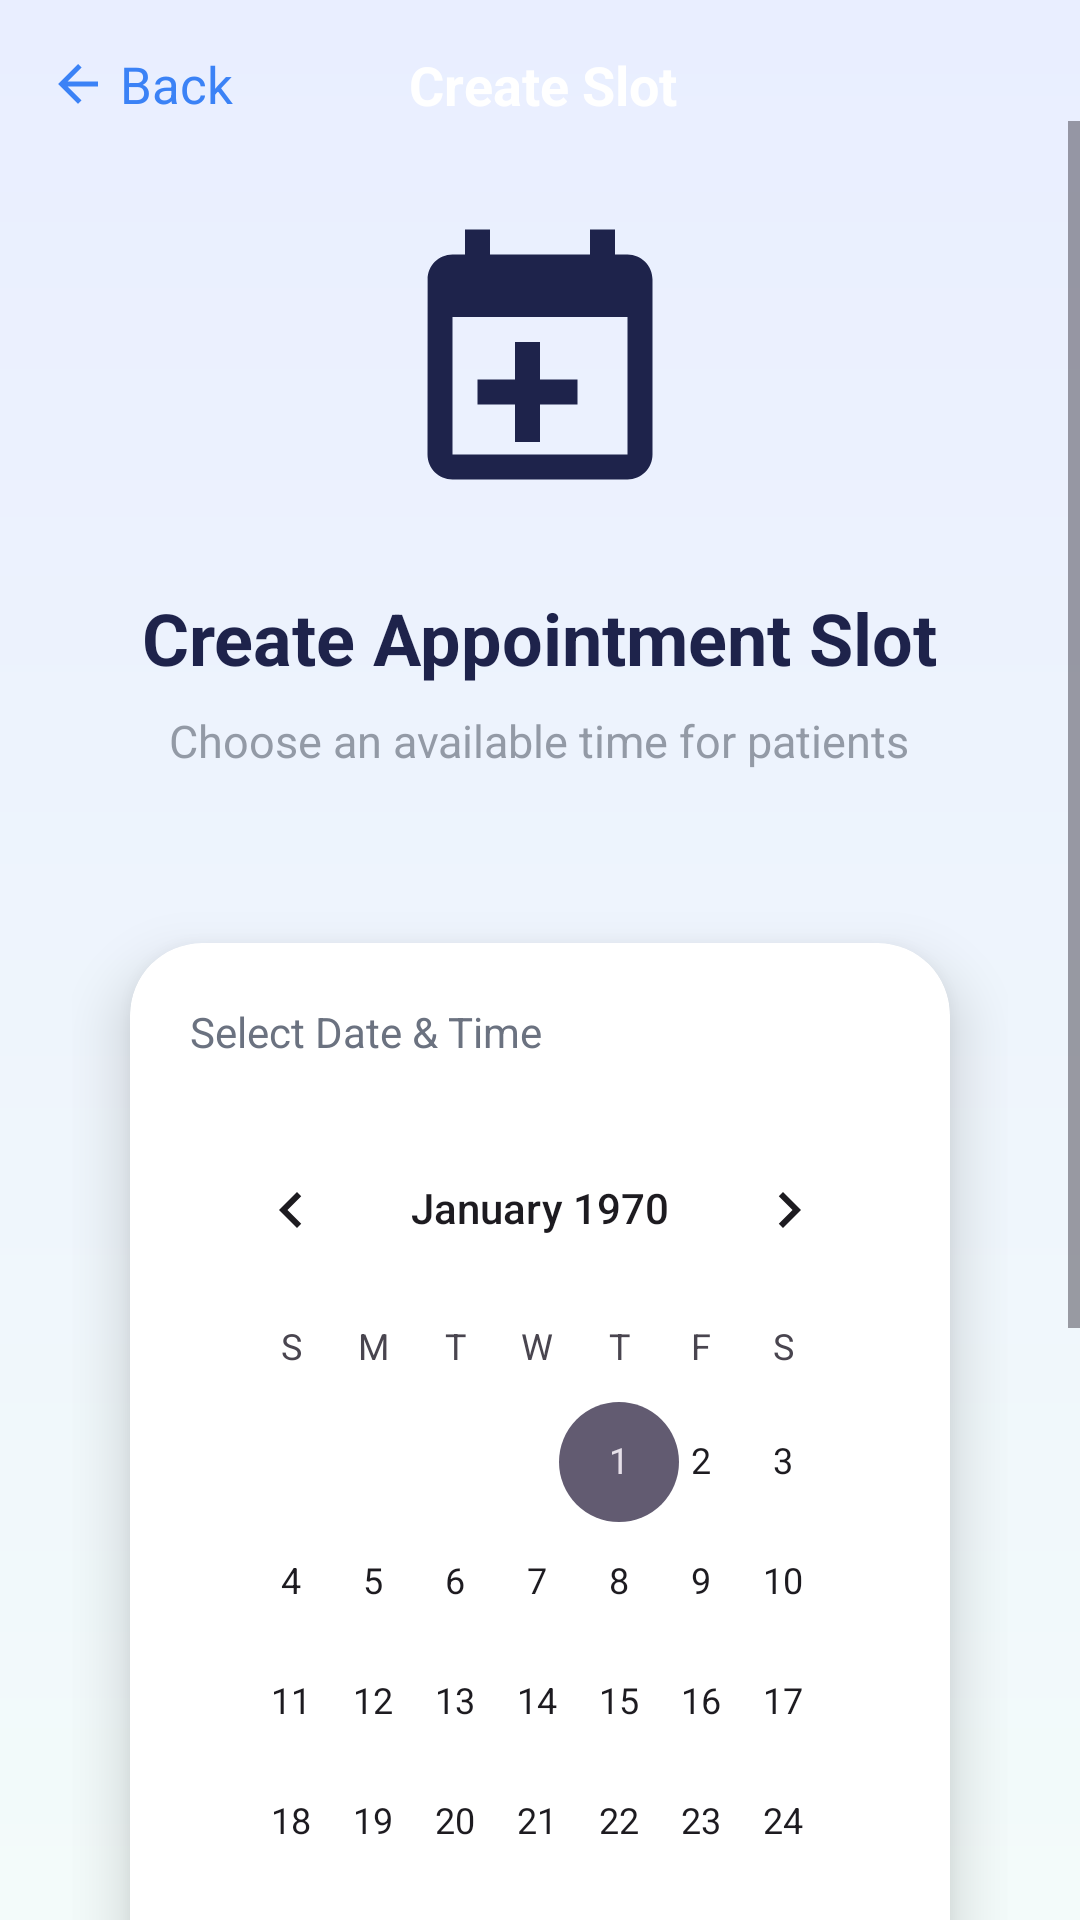

Named icons in this screenshot (1080w x 1920h) and their centers, (x,y):
calendar plus: (540,354)
